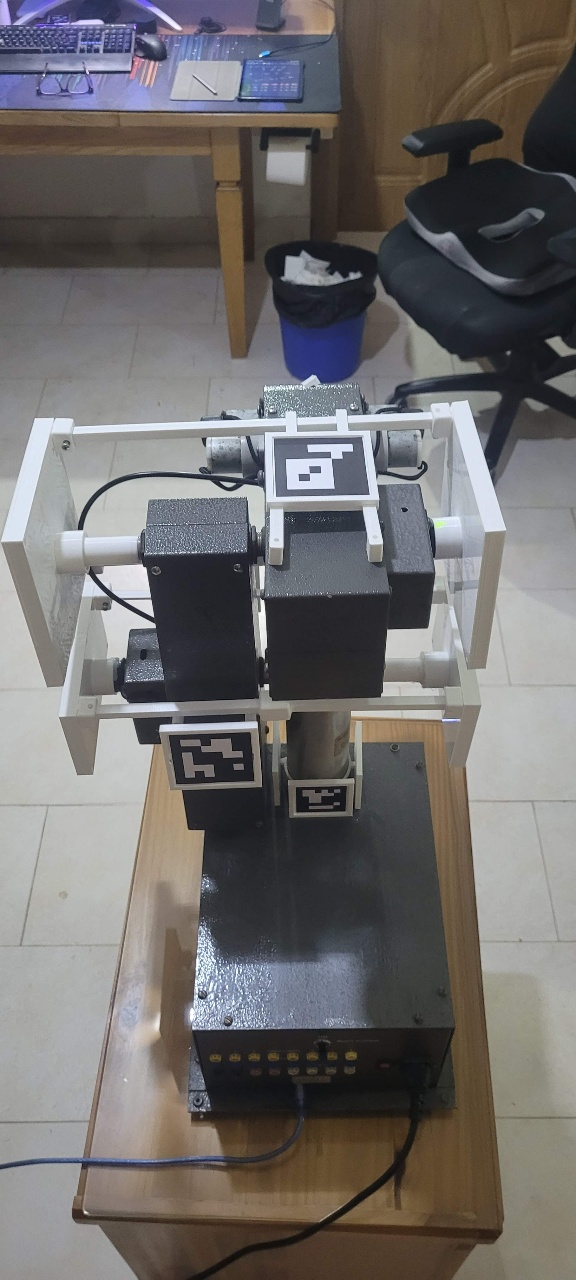Robot: (33, 168, 526, 964)
